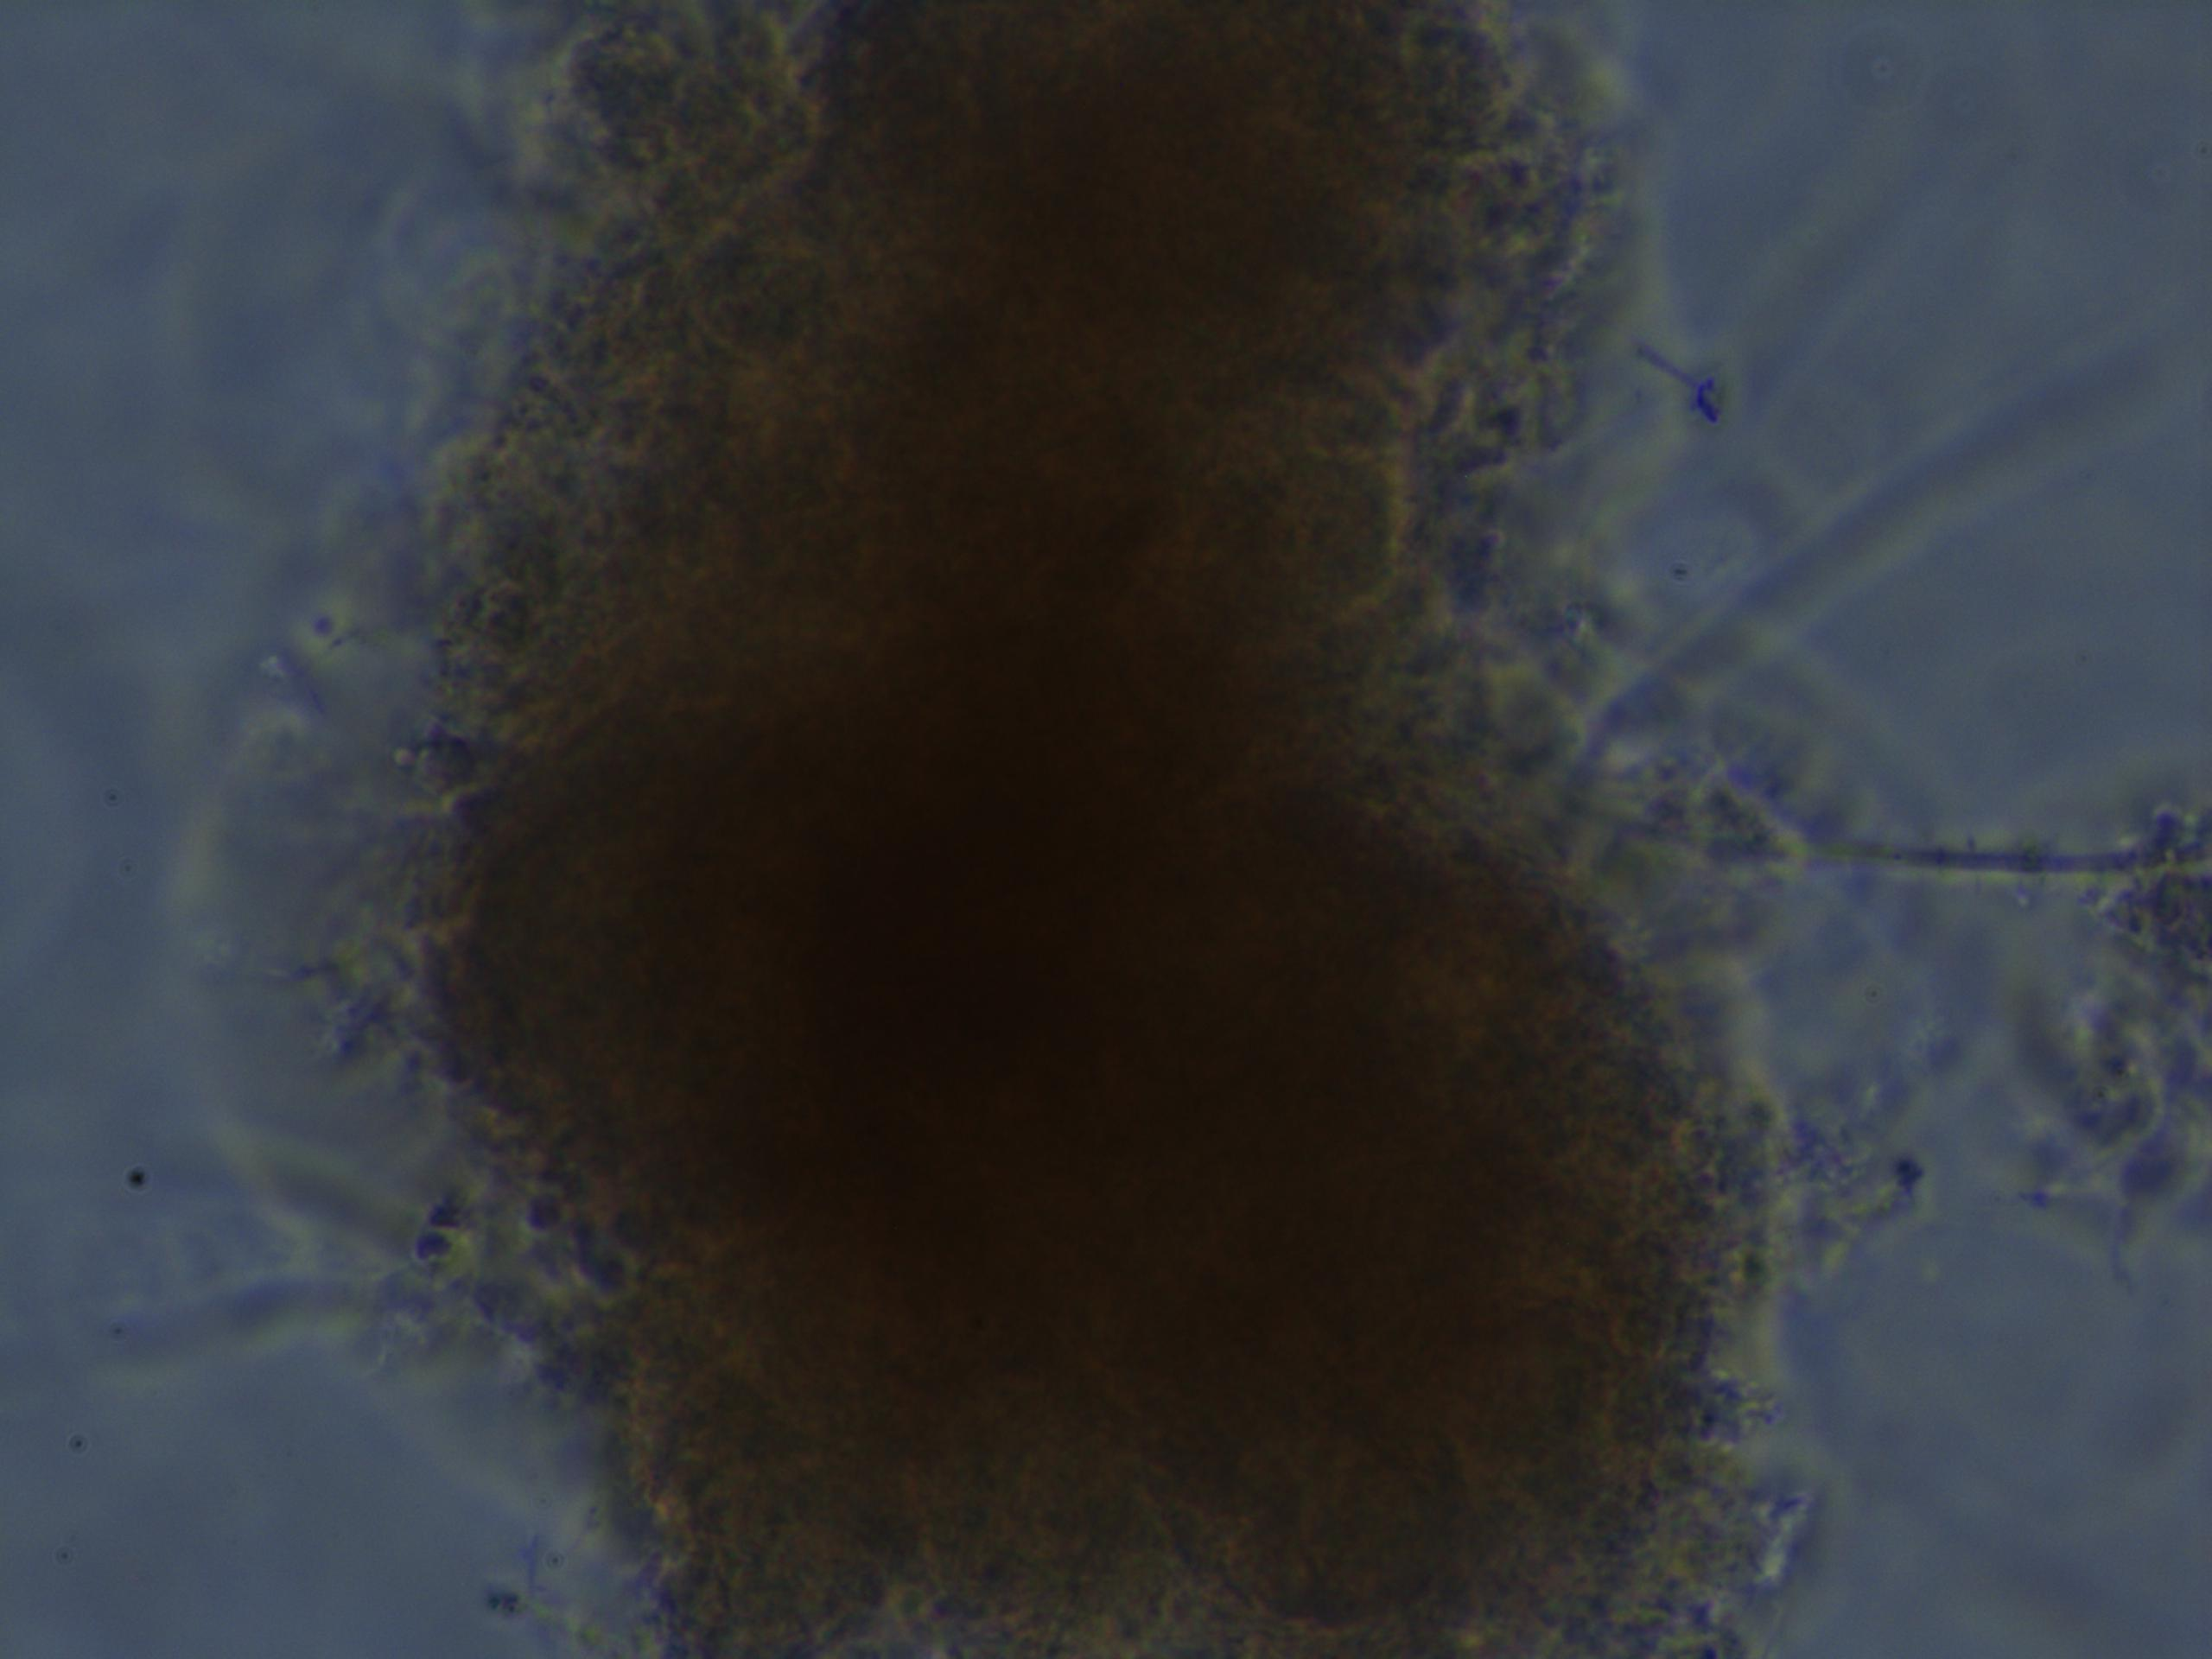filament: (1538, 303, 2212, 795), (1604, 788, 2212, 899)
spherical_floc: (380, 0, 1813, 1657)
